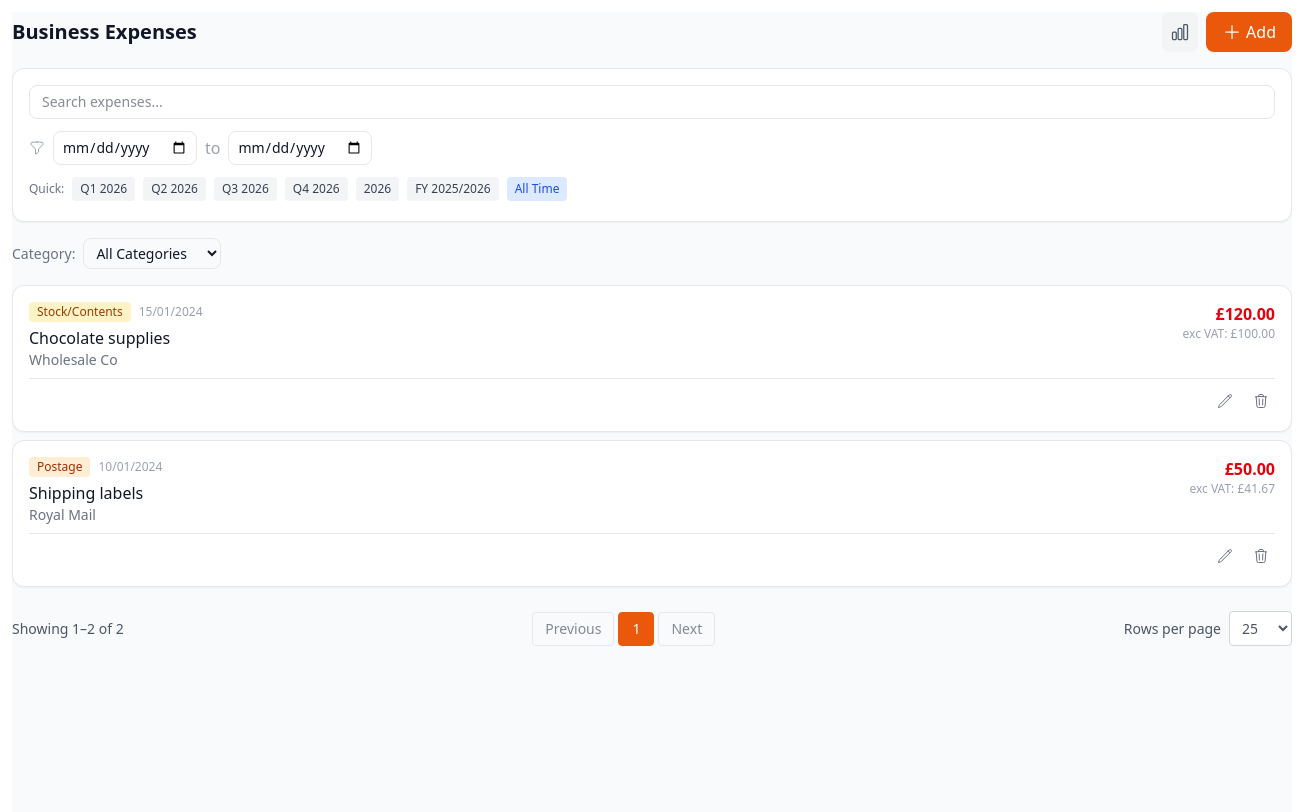
Test: Expenses › summary view › shows summary when toggle clicked
Click the button titled "Toggle summary" at (1180, 32), box left=1162, top=12, right=1198, bottom=52
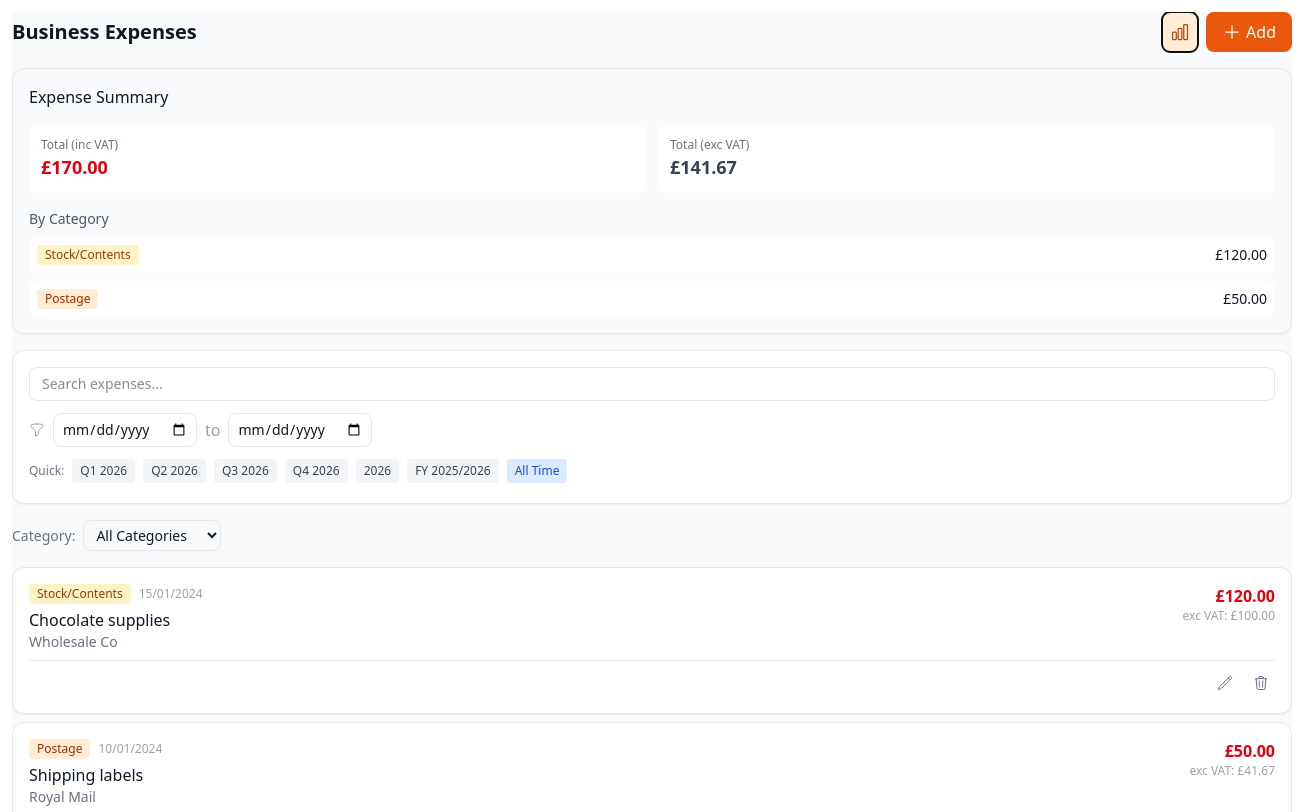
Now the heading "Expense Summary" is shown, box left=29, top=86, right=168, bottom=108
Now the text "Total (inc VAT)" is shown, box left=41, top=136, right=118, bottom=153
